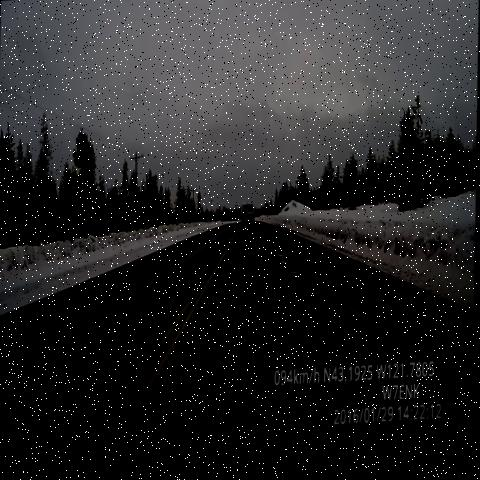pothole: (268, 245, 296, 273), (286, 267, 307, 287), (231, 258, 251, 277), (258, 231, 275, 247)
